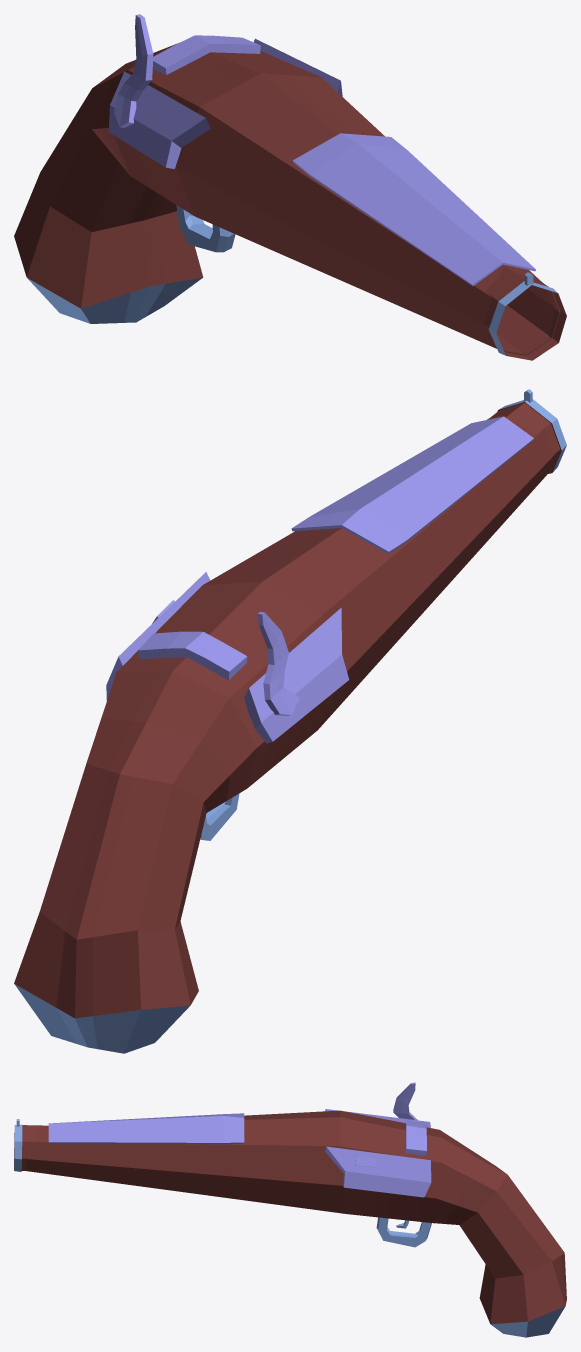
File: pirate_low_poly_pistol.fbx
3 renders of one model, top to bottom at view 1: azimuth 30°, elevation 25°; view 2: azimuth 150°, elevation 25°; view 3: azimuth 270°, elevation 25°, orthographic. The views are drawn at different scales.
Parts seen in each view (by area): view 1: Cube, Cube.006, Cube.003, Cube.012, Cube.008, Cube.004, Cube.010, Cube.001, Cube.009; view 2: Cube, Cube.006, Cube.003, Cube.012, Cube.008, Cube.004, Cube.001, Cube.010; view 3: Cube, Cube.006, Cube.001, Cube.012, Cube.010, Cube.008, Cube.004, Cube.009.
Boxes of the visible parts, left/top/right/bottom form: Cube: left=14, top=43, right=566, bottom=360; Cube.006: left=292, top=133, right=535, bottom=285; Cube.003: left=108, top=71, right=210, bottom=168; Cube.012: left=27, top=277, right=202, bottom=323; Cube.008: left=152, top=35, right=260, bottom=74; Cube.004: left=114, top=14, right=153, bottom=127; Cube.010: left=176, top=205, right=235, bottom=252; Cube.001: left=254, top=38, right=342, bottom=96; Cube.009: left=489, top=281, right=557, bottom=355; Cube: left=14, top=402, right=561, bottom=1018; Cube.006: left=291, top=416, right=533, bottom=553; Cube.003: left=244, top=608, right=349, bottom=743; Cube.012: left=14, top=984, right=189, bottom=1053; Cube.008: left=138, top=631, right=247, bottom=680; Cube.004: left=257, top=612, right=299, bottom=715; Cube.001: left=106, top=572, right=210, bottom=700; Cube.010: left=200, top=793, right=239, bottom=840; Cube: left=14, top=1110, right=566, bottom=1324; Cube.006: left=48, top=1113, right=244, bottom=1144; Cube.001: left=325, top=1146, right=431, bottom=1197; Cube.012: left=491, top=1306, right=565, bottom=1337; Cube.010: left=376, top=1217, right=431, bottom=1247; Cube.008: left=406, top=1121, right=426, bottom=1155; Cube.004: left=393, top=1082, right=417, bottom=1120; Cube.009: left=14, top=1124, right=22, bottom=1171.
Size of the model in its own units: 1198 by 2416 by 5225.
